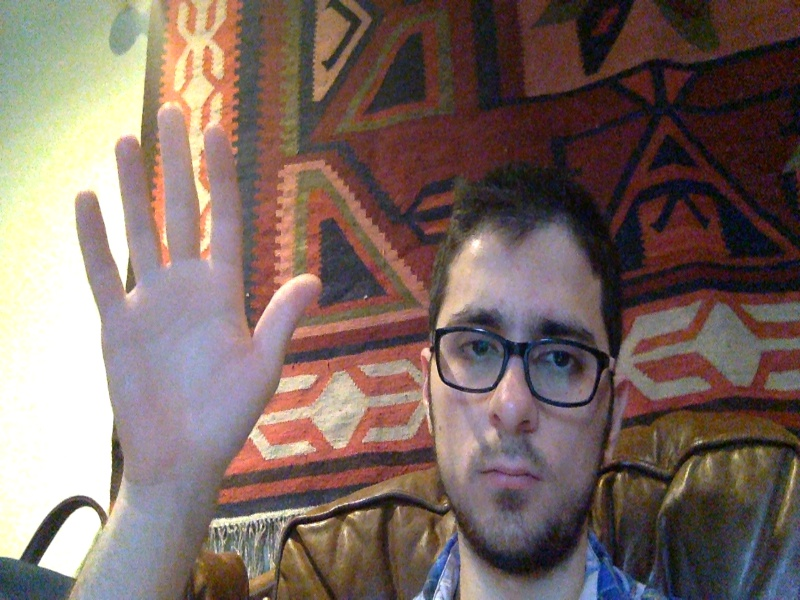5-hand: (73, 100, 324, 470)
